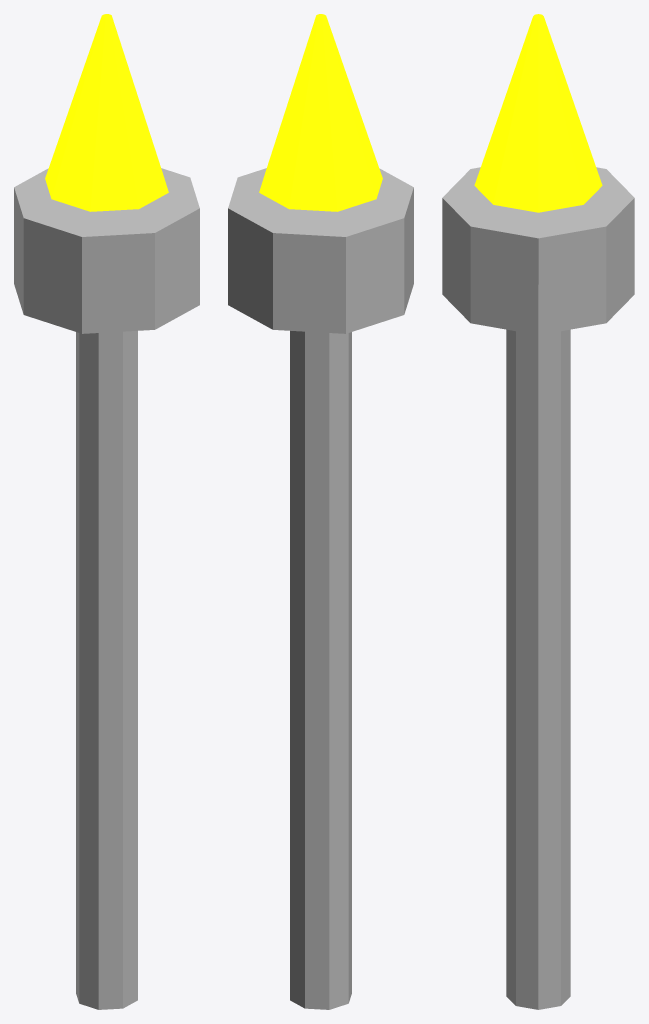
Rendered from Torch.fbx.
3 views of the same model, side by side, from view 1: azimuth 30°, elevation 25°; view 2: azimuth 150°, elevation 25°; view 3: azimuth 270°, elevation 25° (orthographic).
Visible parts, largest first — view 1: Torch_body, Torch_flame; view 2: Torch_body, Torch_flame; view 3: Torch_body, Torch_flame.
Part boxes in pixels (x1,y1,x2,y2): Torch_body: [14, 168, 199, 1009]; Torch_flame: [45, 14, 168, 211]; Torch_body: [228, 168, 413, 1009]; Torch_flame: [259, 14, 382, 211]; Torch_body: [442, 167, 634, 1009]; Torch_flame: [474, 14, 602, 212].
Bounding box in the file's own units: 0.36 × 2.03 × 0.36.
